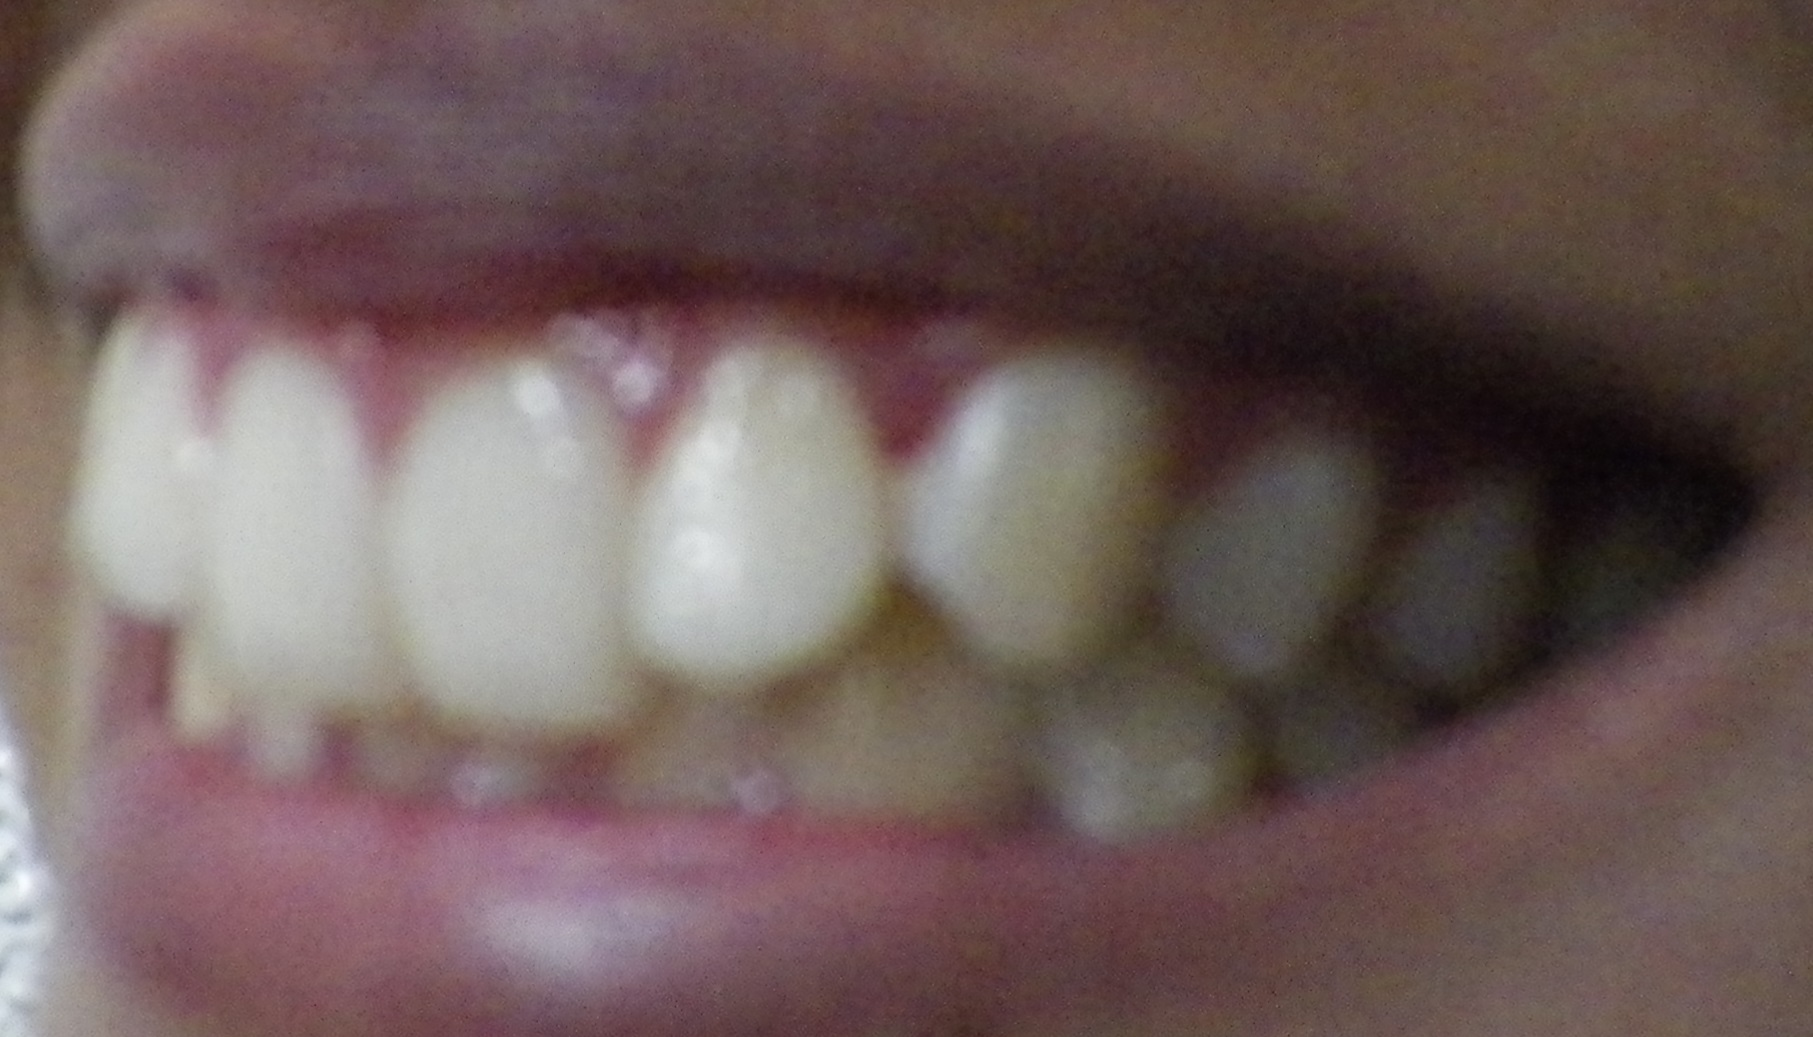boca: (73, 315, 1697, 832)
